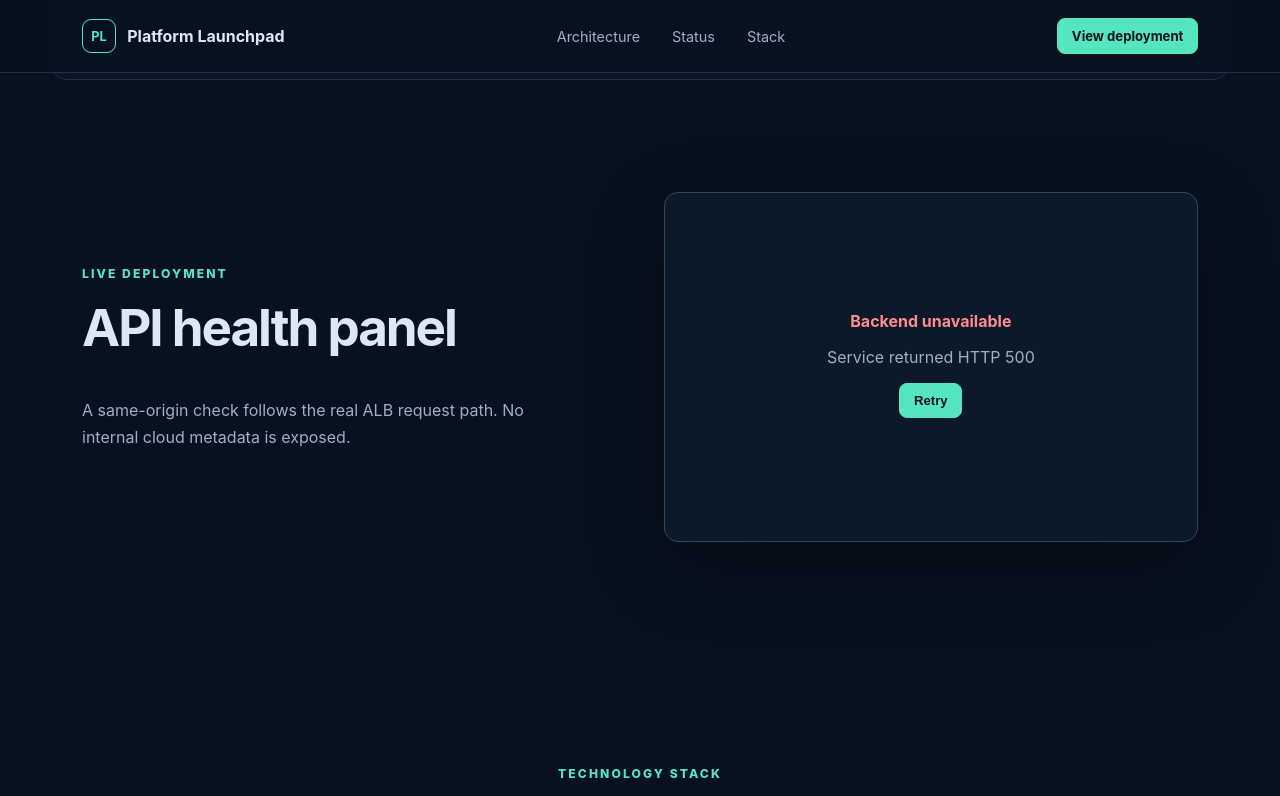
Test case: Platform Launchpad › retries after failure
The image size is (1280, 796).
(page scrolled)
Click the button "Retry".
click(931, 401)  # box [900,383,962,418]
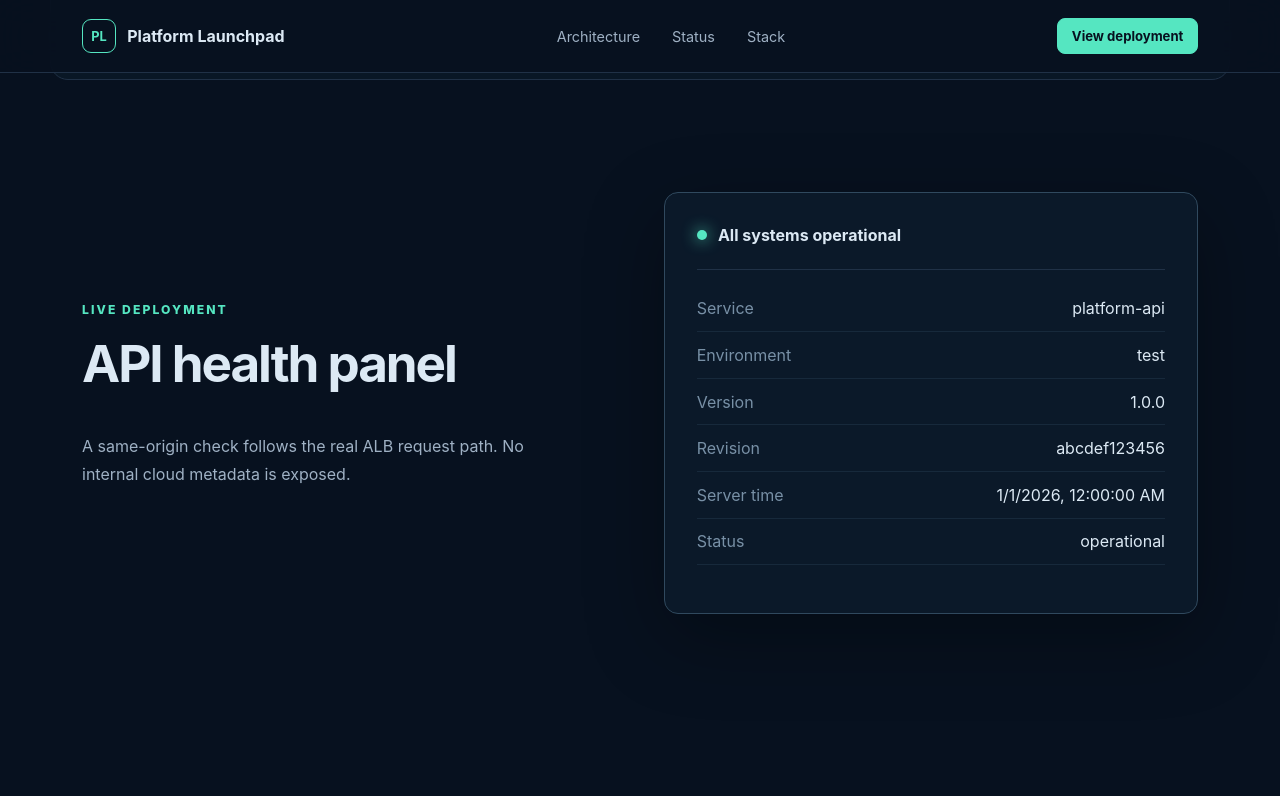
Expected: the text "All systems operational" is shown, [718,225,901,245]
